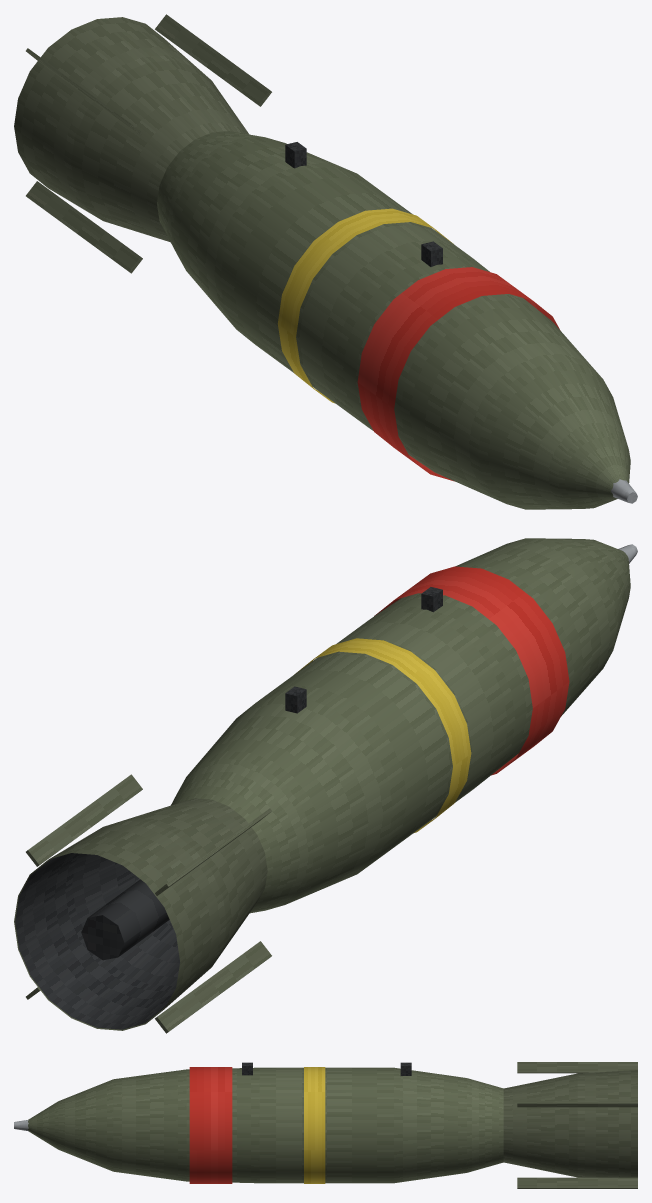
File: fab1500m54.glb
3 renders of one model, top to bottom at view 1: azimuth 30°, elevation 25°; view 2: azimuth 150°, elevation 25°; view 3: azimuth 270°, elevation 25°, orthographic. The views are drawn at different scales.
Parts seen in each view (by area): view 1: body, tail; view 2: body, tail; view 3: body, tail.
Part boxes in pixels (bbox=[...]): body: bbox=[157, 131, 637, 509]; tail: bbox=[14, 14, 271, 273]; body: bbox=[171, 538, 637, 913]; tail: bbox=[14, 774, 271, 1033]; body: bbox=[14, 1062, 503, 1183]; tail: bbox=[503, 1062, 637, 1188].
Size of the model in its own units: 0.638 by 0.684 by 3.38.
1 material, 1 textured.
